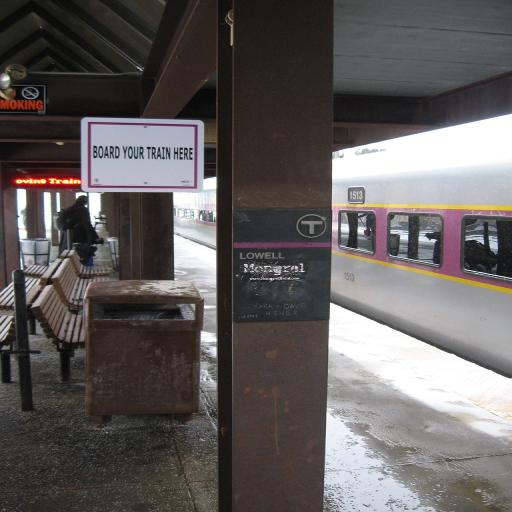platform_edge: (328, 295, 512, 512)
